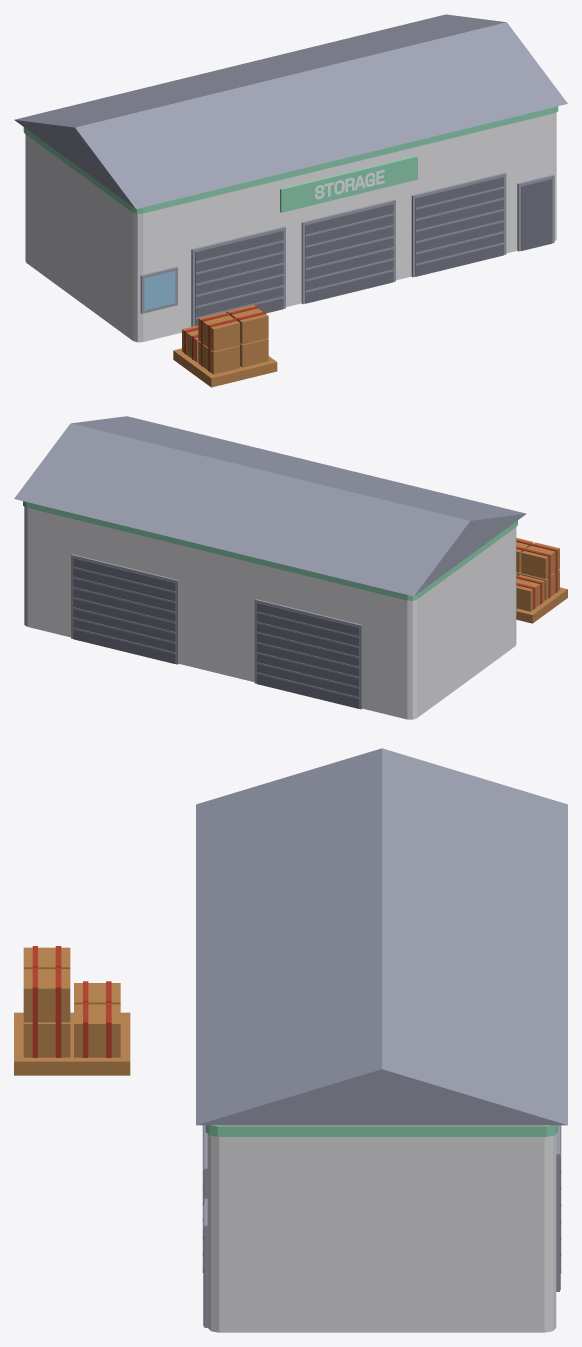
The model's file is storehouse-2x2-t1-tone-a.glb.
3 views of the same model, one above another, from view 1: azimuth 30°, elevation 25°; view 2: azimuth 150°, elevation 25°; view 3: azimuth 270°, elevation 25° (orthographic). The views are drawn at different scales.
Parts seen in each view (by area): view 1: storehouse-2x2-t1-tone-a; view 2: storehouse-2x2-t1-tone-a; view 3: storehouse-2x2-t1-tone-a.
Boxes of the visible parts, left/top/right/bottom form: storehouse-2x2-t1-tone-a: left=14, top=14, right=567, bottom=387; storehouse-2x2-t1-tone-a: left=14, top=416, right=567, bottom=719; storehouse-2x2-t1-tone-a: left=14, top=748, right=567, bottom=1332.
Bounding box in the file's own units: 1.96 × 0.76 × 1.43.
1 material, 1 textured.
